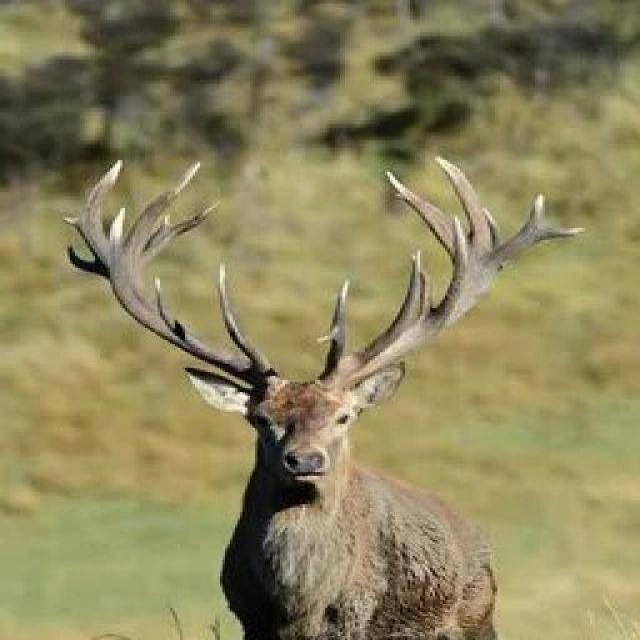deer: (52, 150, 504, 633)
